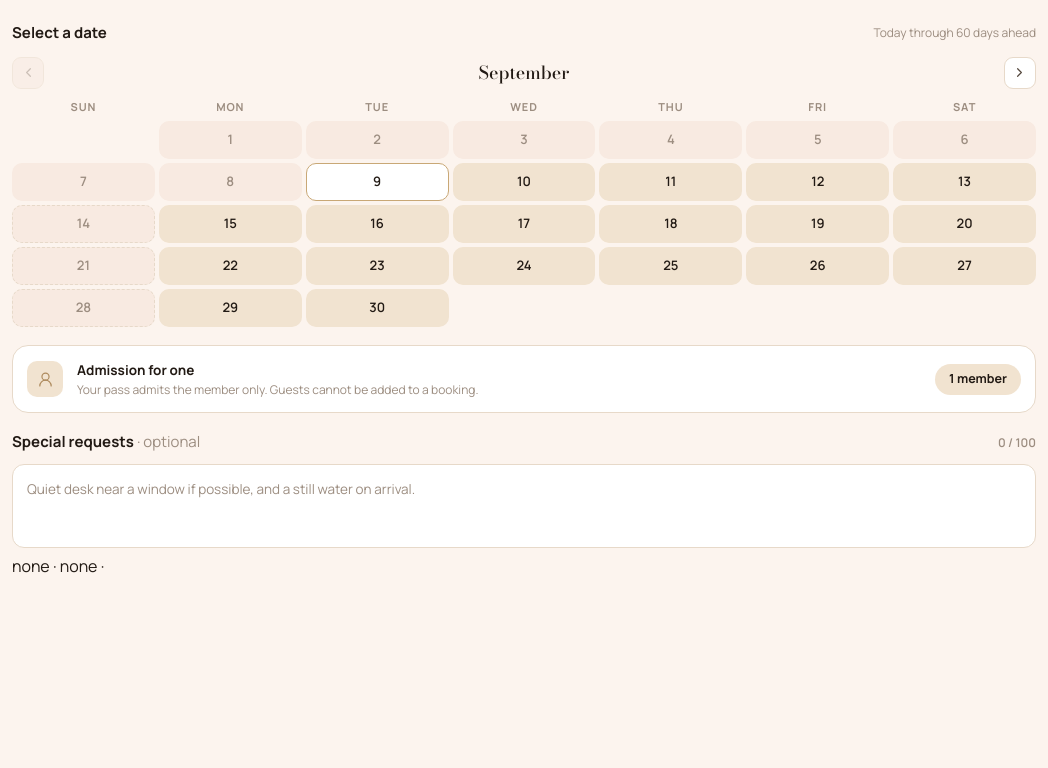
Test: date picker — arranca en hoy › hoy es seleccionable
Click the button "9".
click(377, 182)  # box [306,163,449,201]
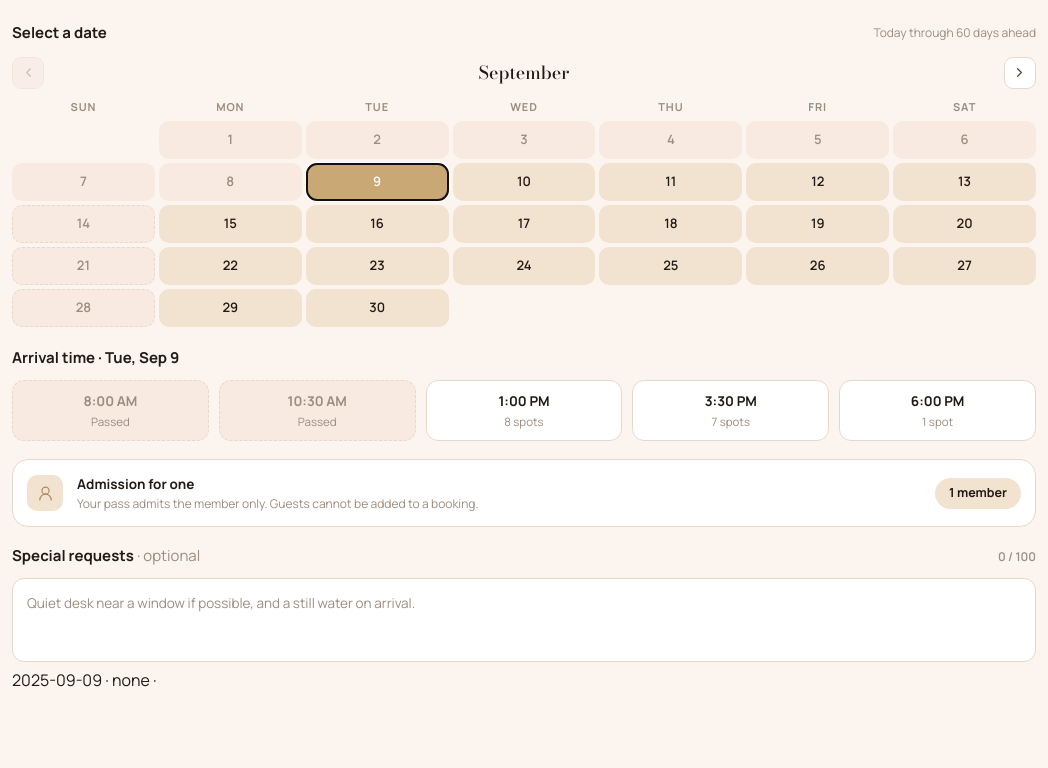
Expected: the text with test id "draft" shows "2025-09-09", [12,669,102,691]
